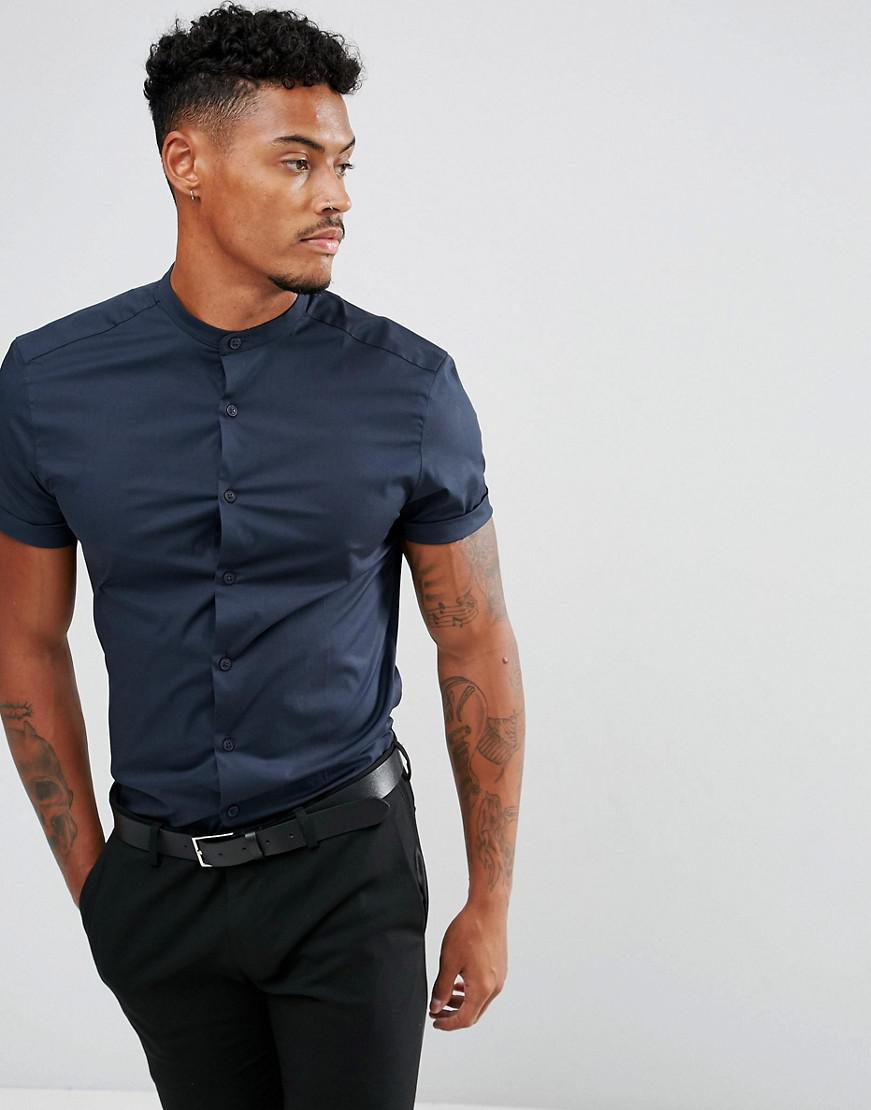teeshirt: (3, 217, 501, 851)
